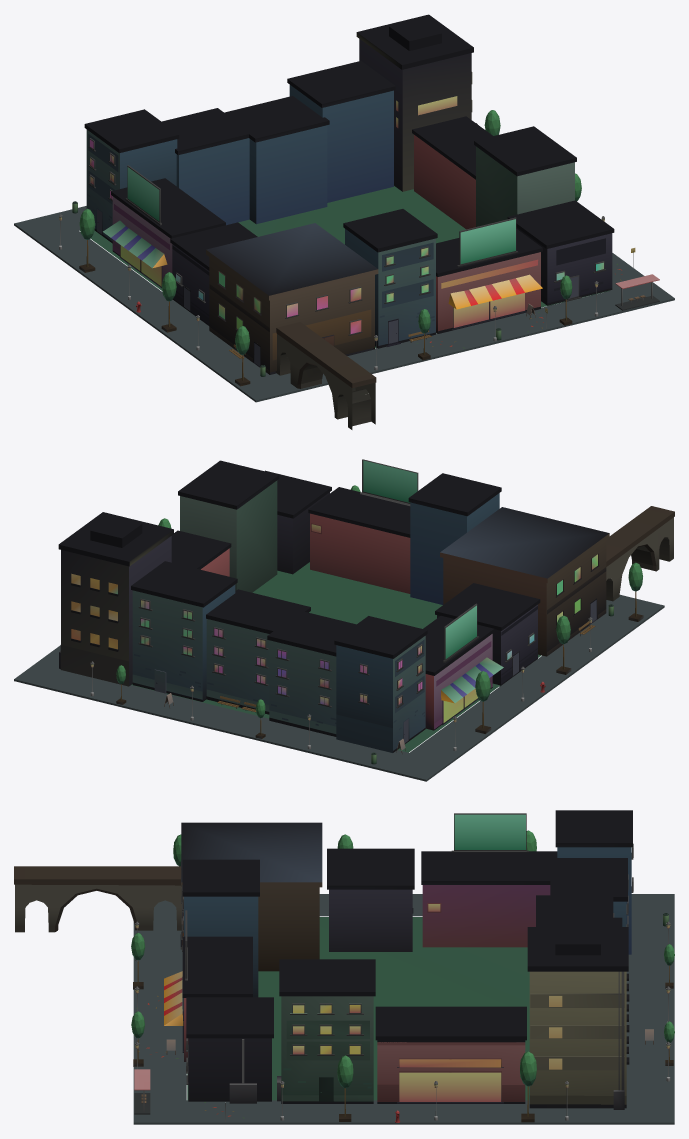
Rendered from building-block-small-z.fbx.
3 renders of one model, top to bottom at view 1: azimuth 30°, elevation 25°; view 2: azimuth 150°, elevation 25°; view 3: azimuth 270°, elevation 25°, orthographic. The views are drawn at different scales.
Parts seen in each view (by area): view 1: building-block-small; view 2: building-block-small; view 3: building-block-small.
Boxes of the visible parts, box(x1,y1,x2,y2) form: building-block-small: box(14, 14, 674, 429); building-block-small: box(14, 459, 674, 781); building-block-small: box(14, 810, 674, 1124).
Bounding box in the file's own units: 41.01 × 14.24 × 49.92.
